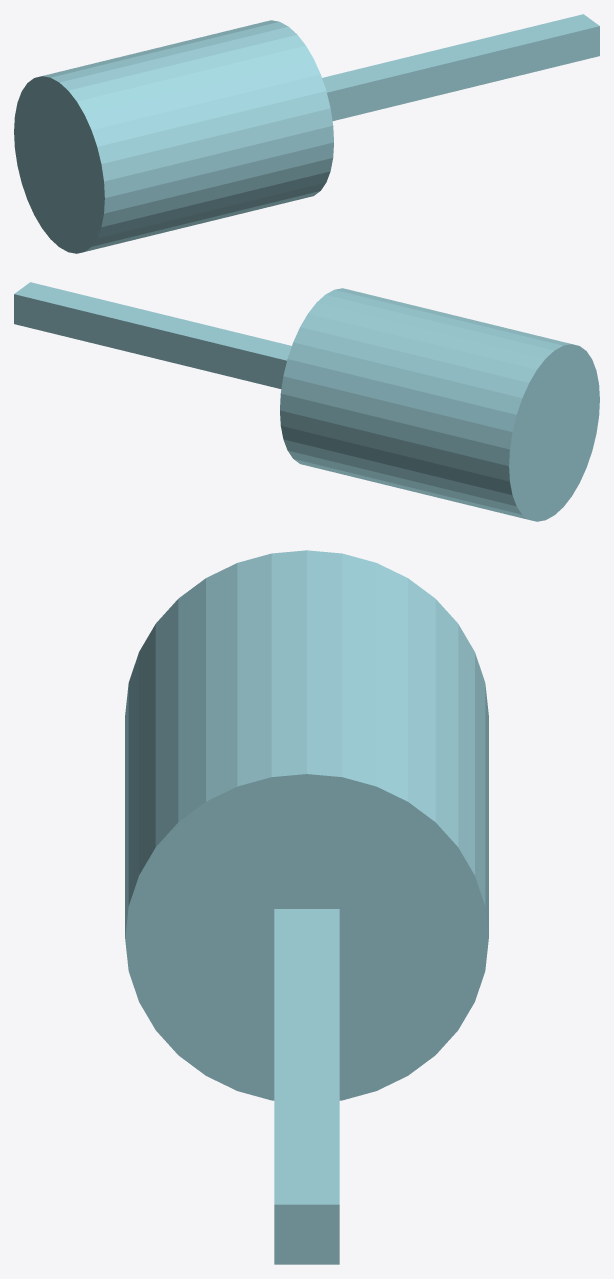
Rendered from cylinder_screwdriver_v3001.obj.
The picture shows the model from 3 angles, top to bottom: view 1: azimuth 30°, elevation 25°; view 2: azimuth 150°, elevation 25°; view 3: azimuth 270°, elevation 25°; orthographic projection. The views are drawn at different scales.
Size of the model in its own units: 0.2605 by 0.0771 by 0.0771.
1 material, 1 textured.
